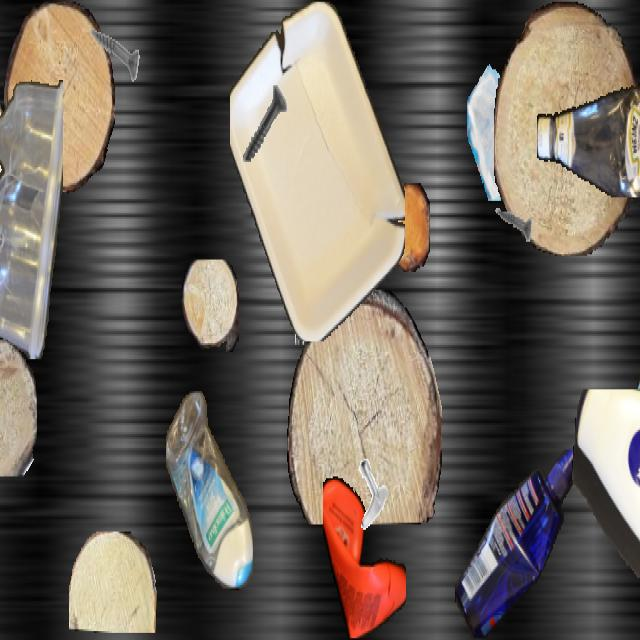glass: (467, 51, 551, 201), (635, 354, 640, 464)
metal: (233, 70, 295, 180), (82, 2, 140, 105), (287, 261, 333, 343), (347, 455, 391, 533), (492, 188, 532, 260)
plastic: (230, 2, 404, 340), (454, 450, 584, 638), (0, 73, 62, 357), (570, 390, 640, 638), (166, 391, 252, 590), (323, 471, 405, 638), (537, 76, 640, 198), (616, 224, 640, 590), (0, 2, 14, 325)
wood: (494, 2, 638, 254), (287, 290, 441, 524), (4, 2, 114, 194), (270, 166, 362, 300), (69, 532, 157, 631), (182, 260, 238, 352), (0, 338, 37, 476), (387, 183, 429, 272)
